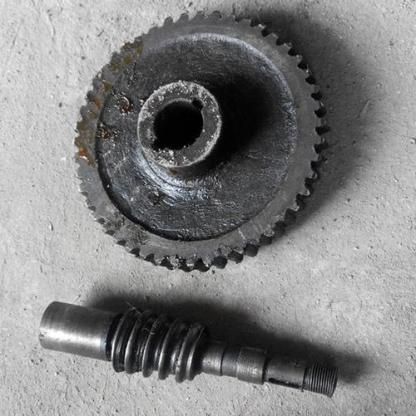FOD: (70, 6, 328, 274)
